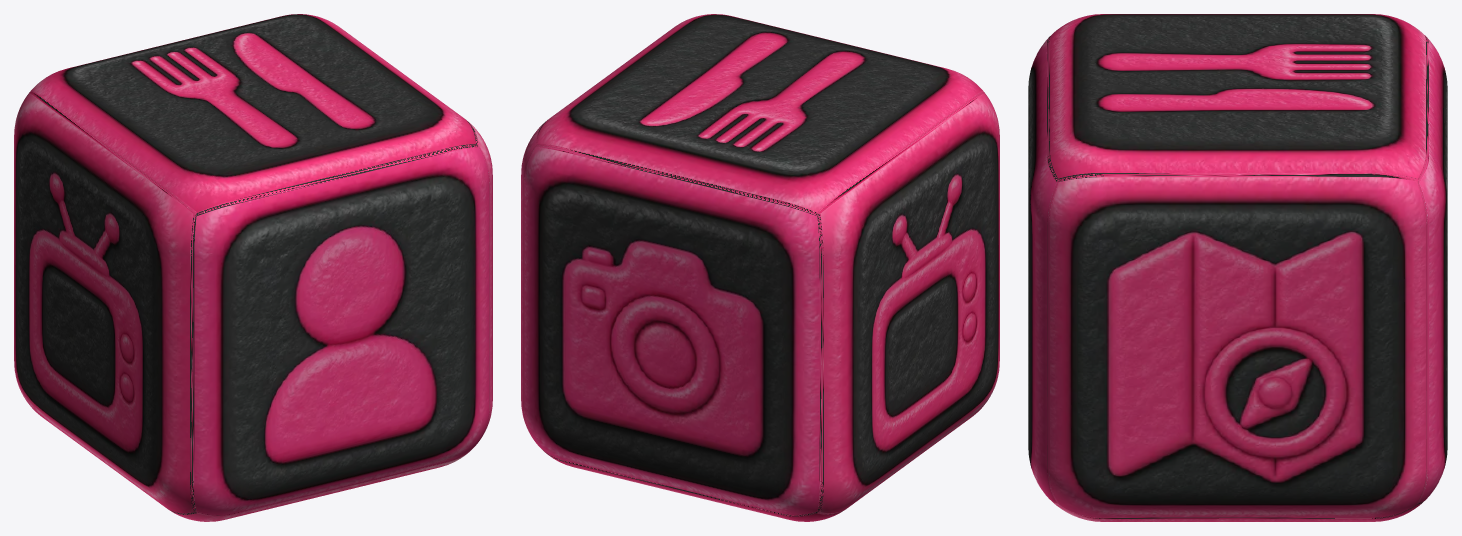
File: poplur_cube_v4.glb
3 renders of one model, left to right at view 1: azimuth 30°, elevation 25°; view 2: azimuth 150°, elevation 25°; view 3: azimuth 270°, elevation 25°, orthographic. The views are drawn at different scales.
Size of the model in its own units: 1.9 by 1.9 by 1.9.
1 material, 1 textured.
